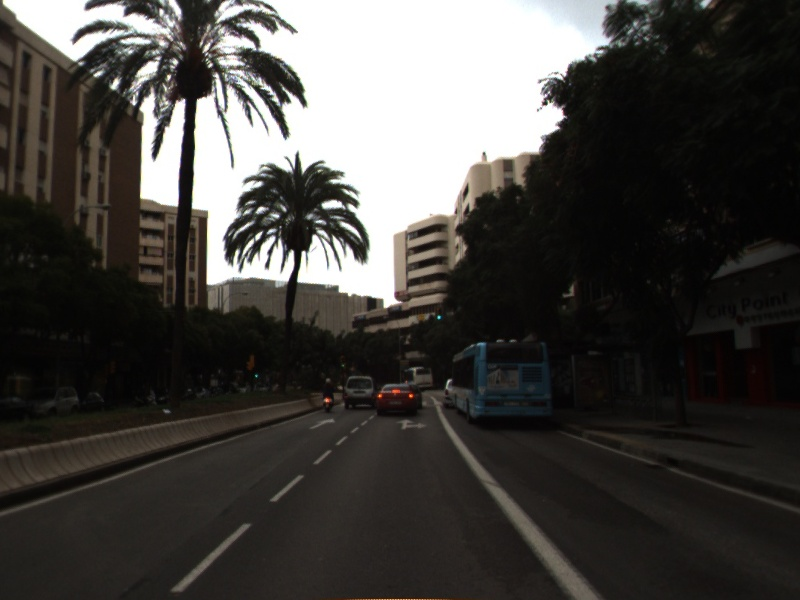STRAIGHT: (307, 417, 337, 431)
STRAIGHT_RIGHT: (394, 417, 429, 432)
